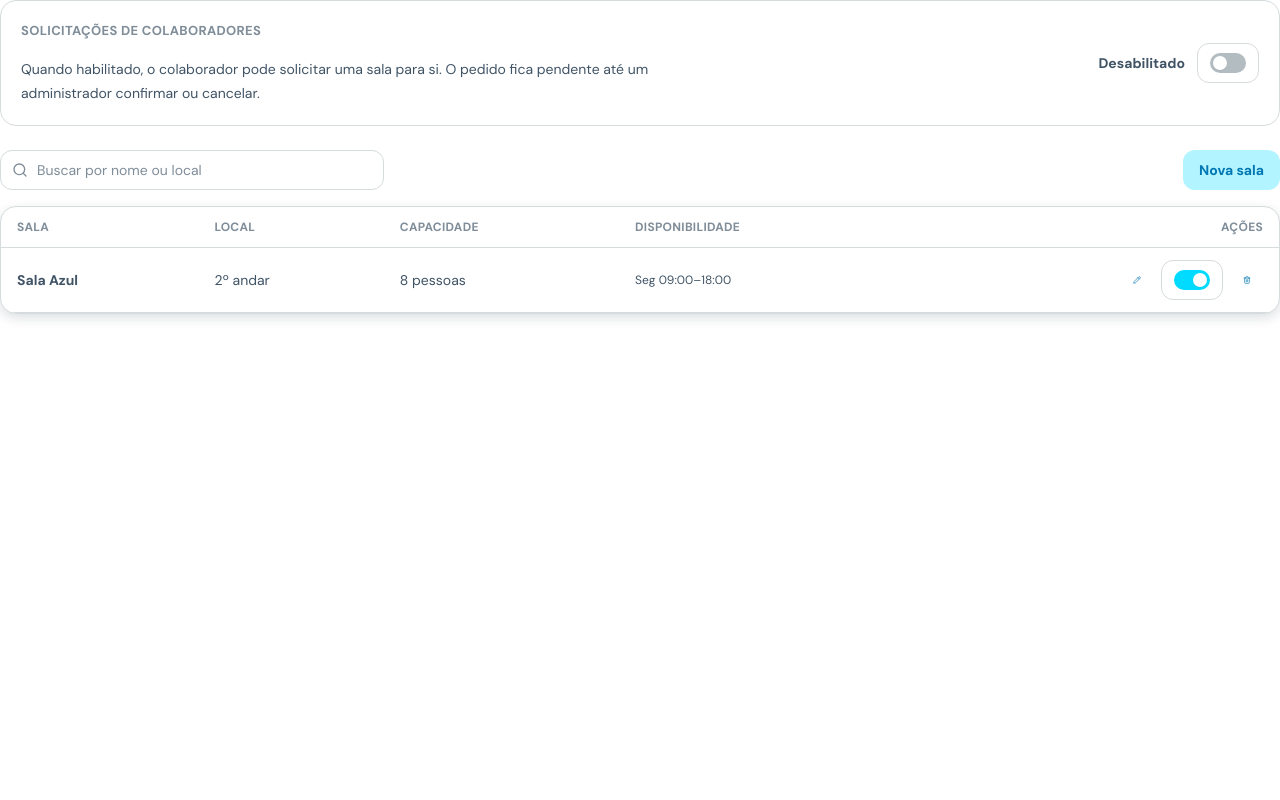
Test: SalasAdminPage › abre a edição já com a grade da sala carregada
Click the button named "Editar Sala Azul". click: (1137, 280)
box: [1121,264,1153,296]
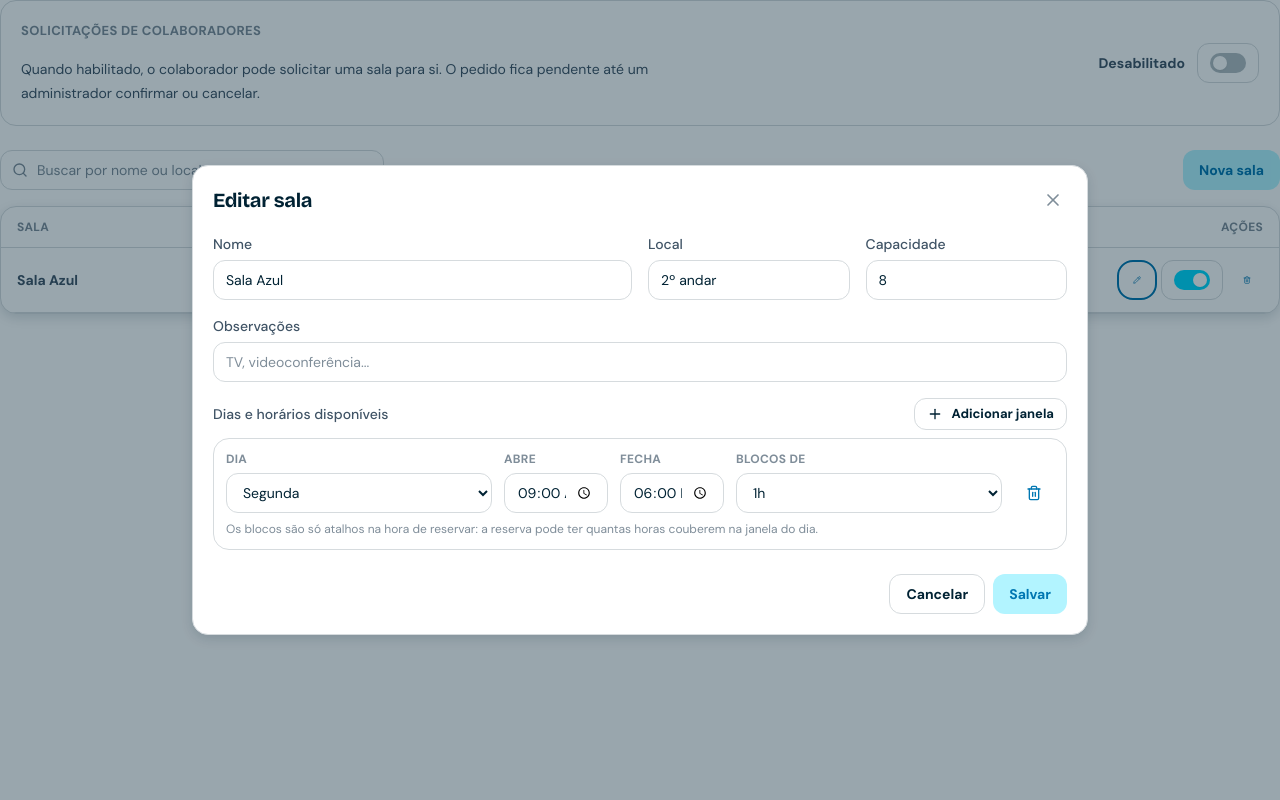
Expected: the dialog "Editar sala" is shown, [192,165,1088,635]
Expected: the field labelled "Nome" holds "Sala Azul", [213,260,632,300]
Expected: the time field named "Abre em Segunda" holds "09:00", [504,473,608,513]
